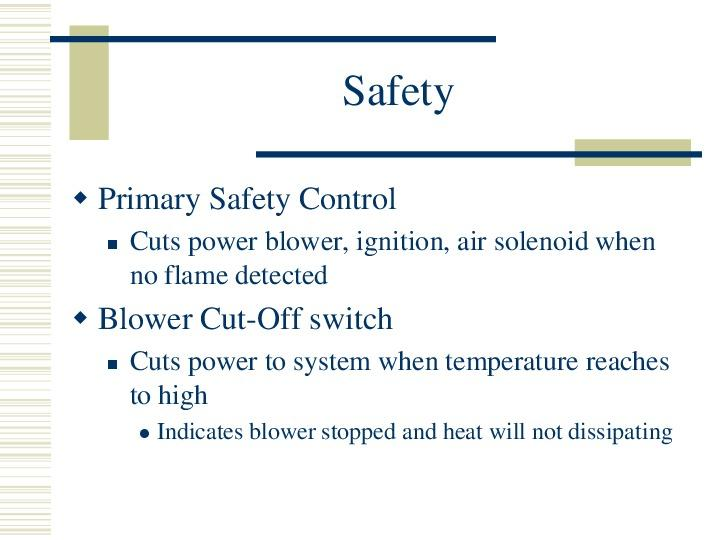paragraph: (72, 178, 698, 482)
subtitle: (100, 293, 404, 340), (98, 182, 412, 218)
title: (325, 65, 459, 118)
